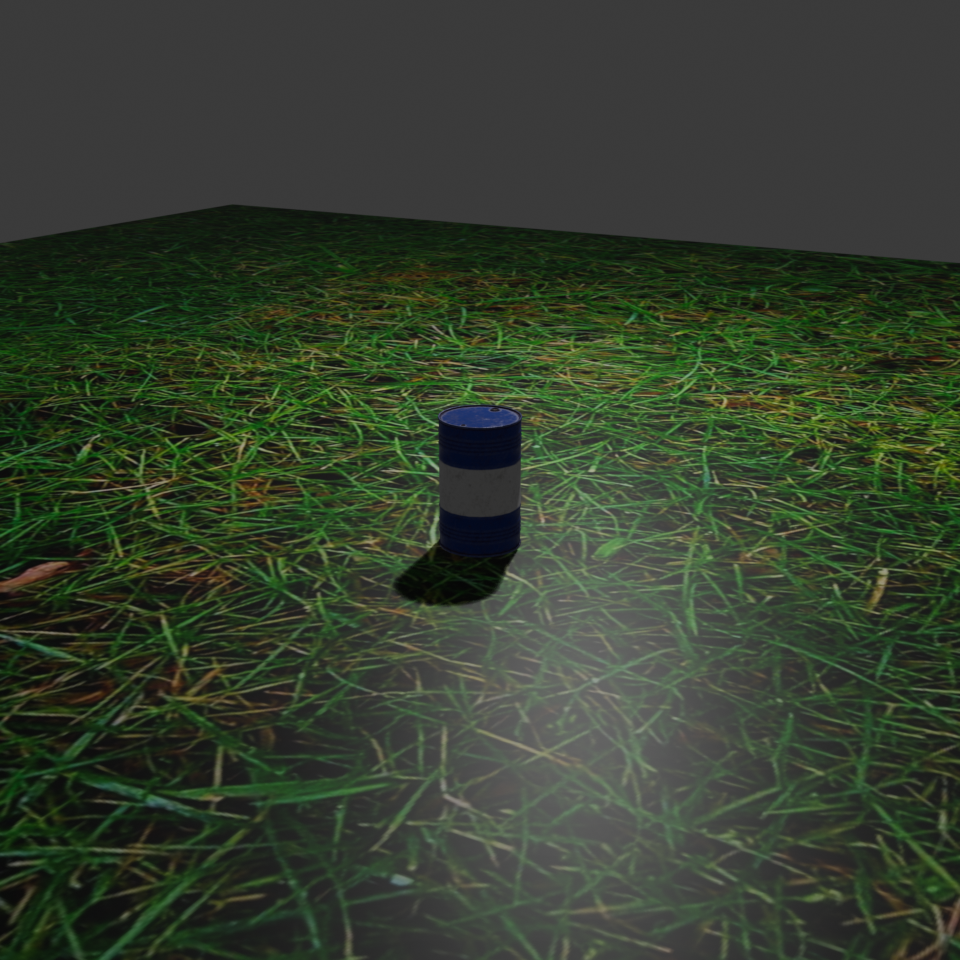circle: (434, 402, 528, 568)
